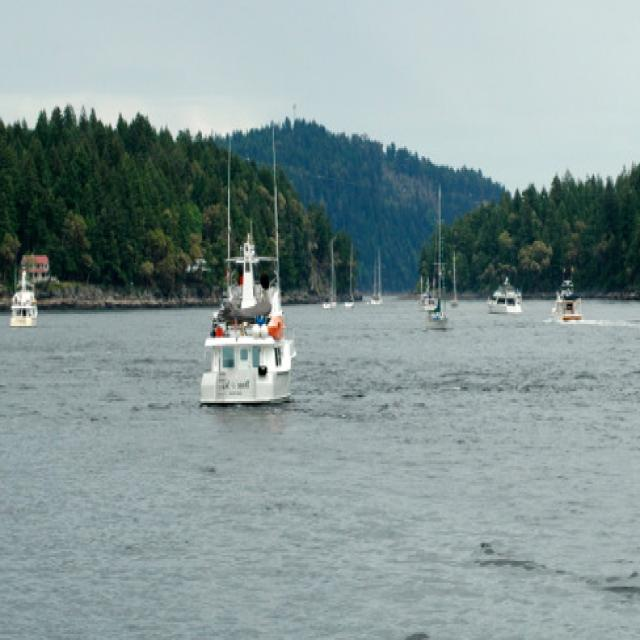houseboat: (201, 237, 302, 411), (7, 272, 43, 329), (486, 274, 526, 314), (552, 280, 588, 323)
